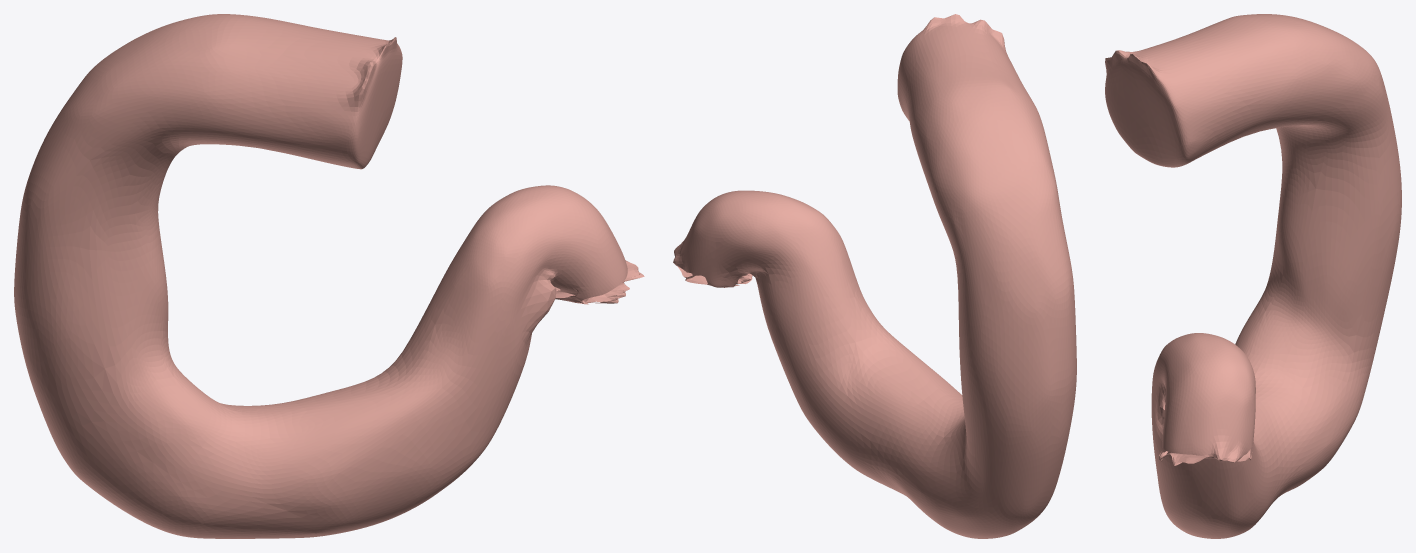
File: duodeno.glb
3 views of the same model, side by side, from view 1: azimuth 30°, elevation 25°; view 2: azimuth 150°, elevation 25°; view 3: azimuth 270°, elevation 25° (orthographic). The views are drawn at different scales.
Visible parts, largest first — view 1: duodenum; view 2: duodenum; view 3: duodenum.
Part boxes in pixels (x1,y1,x2,y2): duodenum: [14, 14, 644, 538]; duodenum: [673, 14, 1076, 538]; duodenum: [1105, 14, 1401, 538].
Bounding box in the file's own units: 98.94 × 92.3 × 52.77.
